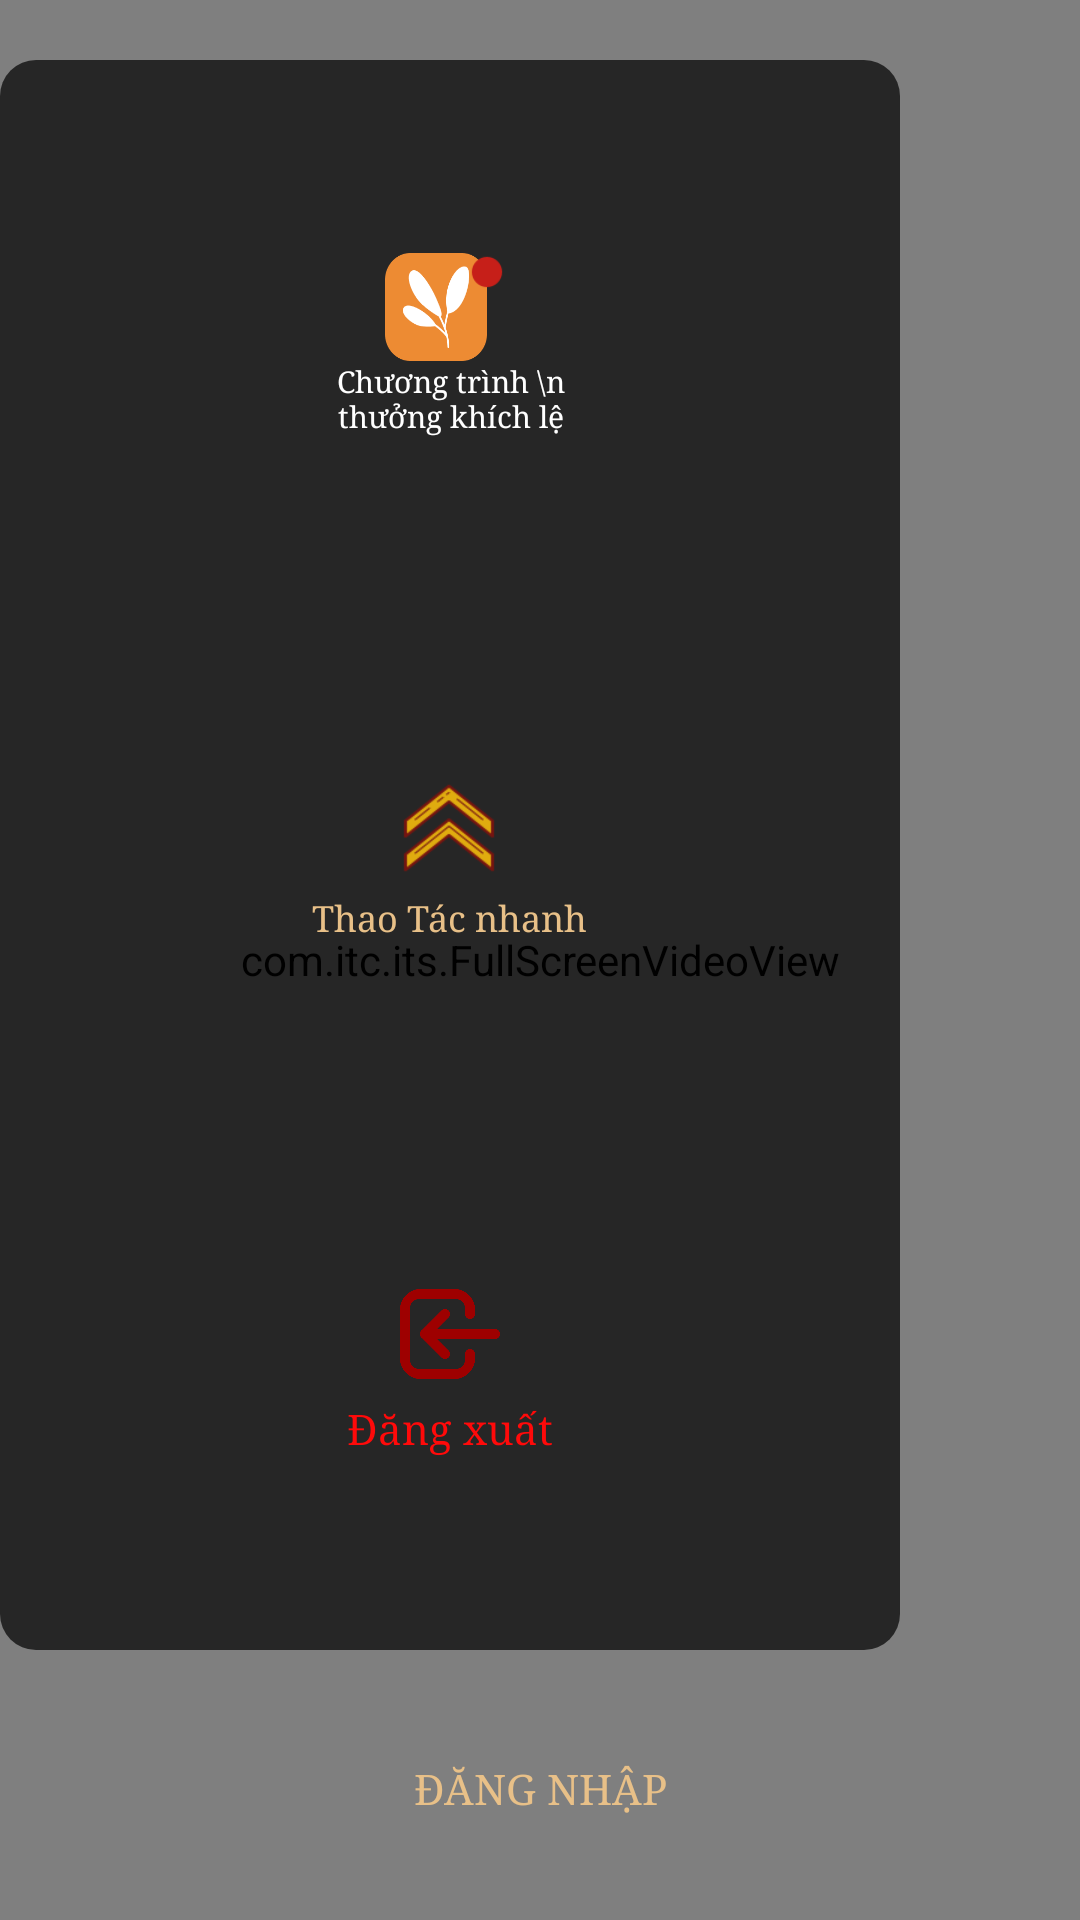

Icons on this 1080px x 1920px Android screen, each with the point to tap as (x,y):
double arrow: (449,828)
